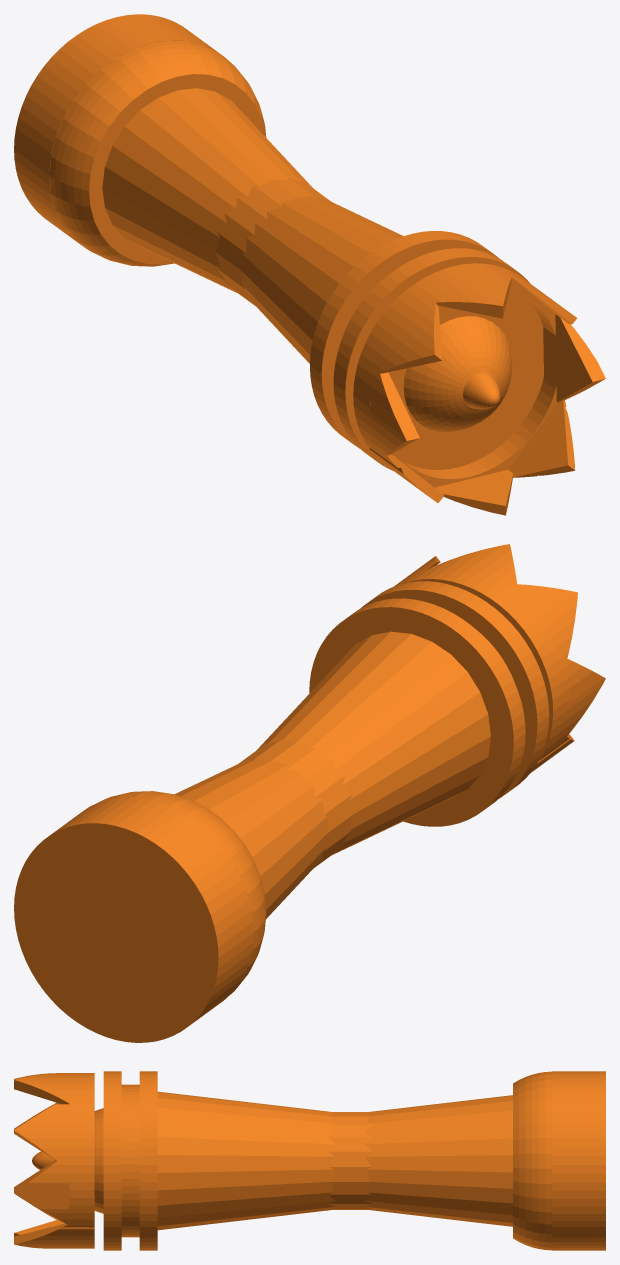
File: tinker.obj
3 views of the same model, one above another, from view 1: azimuth 30°, elevation 25°; view 2: azimuth 150°, elevation 25°; view 3: azimuth 270°, elevation 25° (orthographic). The views are drawn at different scales.
Visible parts, largest first — view 1: obj_0; view 2: obj_0; view 3: obj_0.
Part boxes in pixels (x1,y1,x2,y2): obj_0: (14,14,605,515); obj_0: (14,544,605,1042); obj_0: (14,1071,605,1250).
Size of the model in its own units: 20 by 20 by 66.
